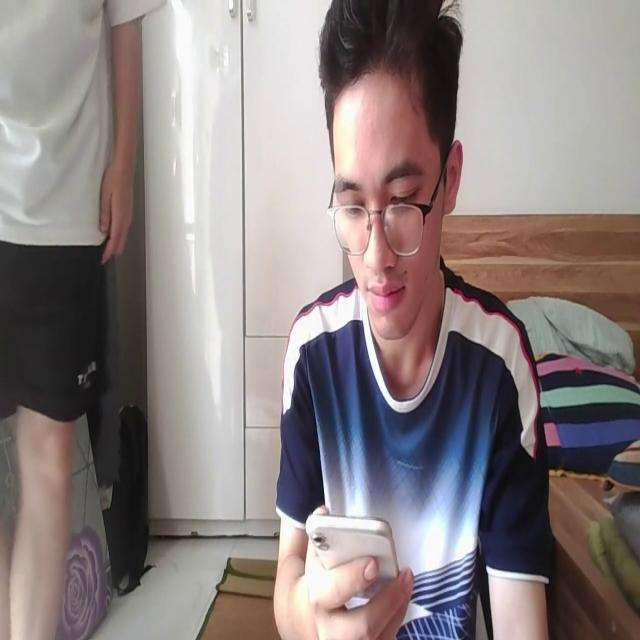extra_person: (0, 0, 143, 640)
phone: (303, 502, 402, 616)
student: (275, 0, 555, 640)
